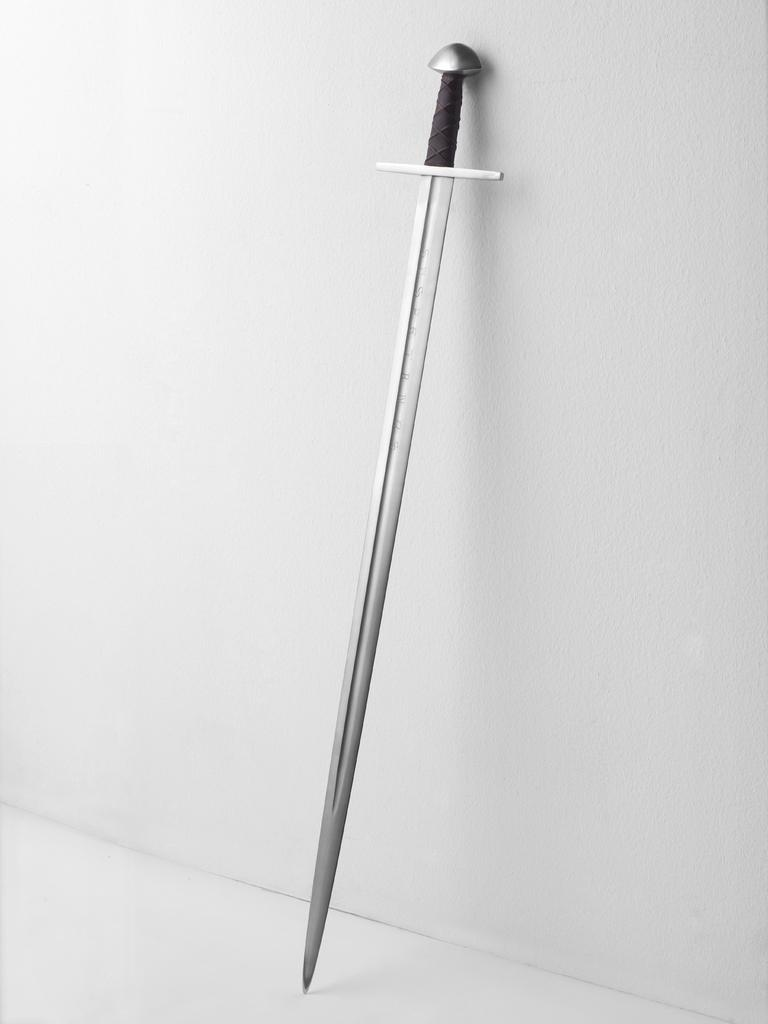Sword: (302, 43, 506, 995)
